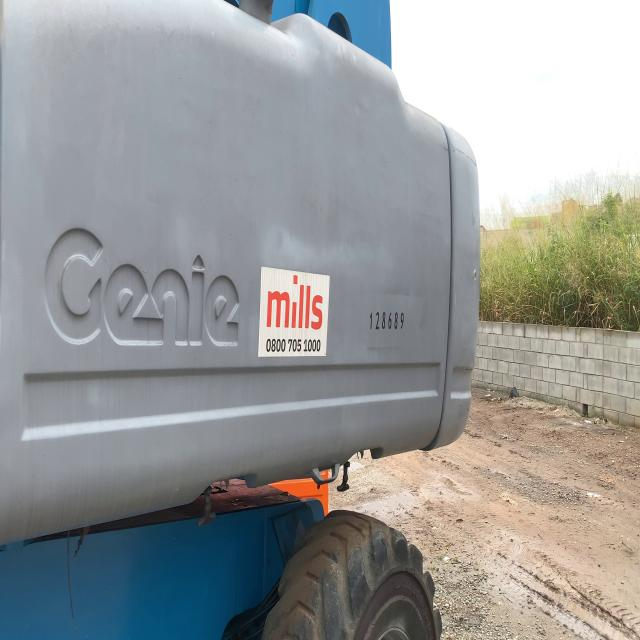Adesivos: (256, 265, 331, 358)
